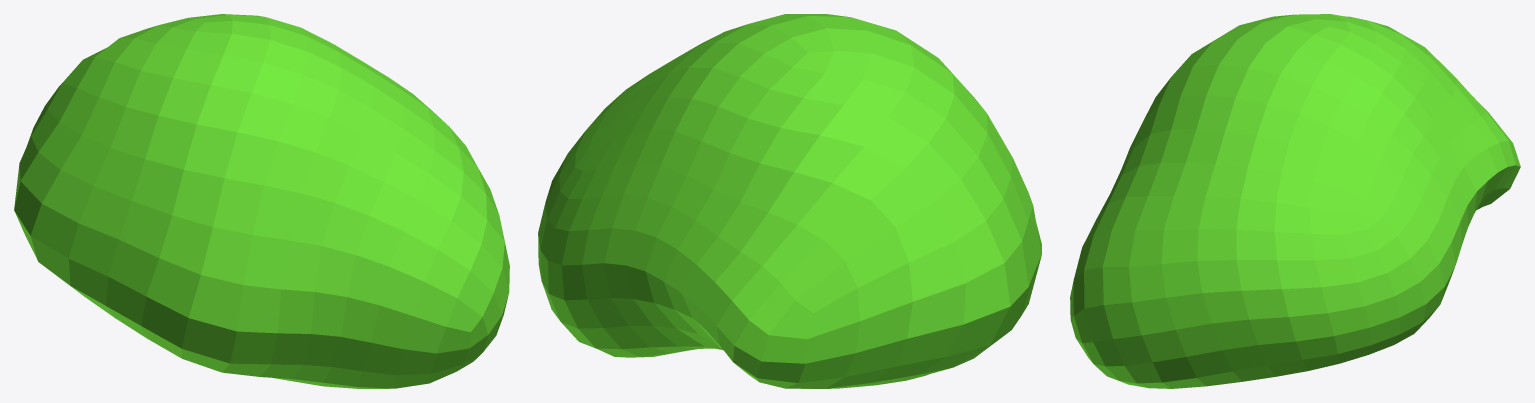
File: Canopy.glb
The picture shows the model from 3 angles, left to right: view 1: azimuth 30°, elevation 25°; view 2: azimuth 150°, elevation 25°; view 3: azimuth 270°, elevation 25°; orthographic projection. The views are drawn at different scales.
Visible parts, largest first — view 1: mesh.003; view 2: mesh.003; view 3: mesh.003.
Part boxes in pixels (box(x1,y1,x2,y2)): mesh.003: box(14, 14, 509, 388); mesh.003: box(538, 14, 1041, 388); mesh.003: box(1070, 14, 1520, 388).
Size of the model in its own units: 2.75 by 2.09 by 2.77.
